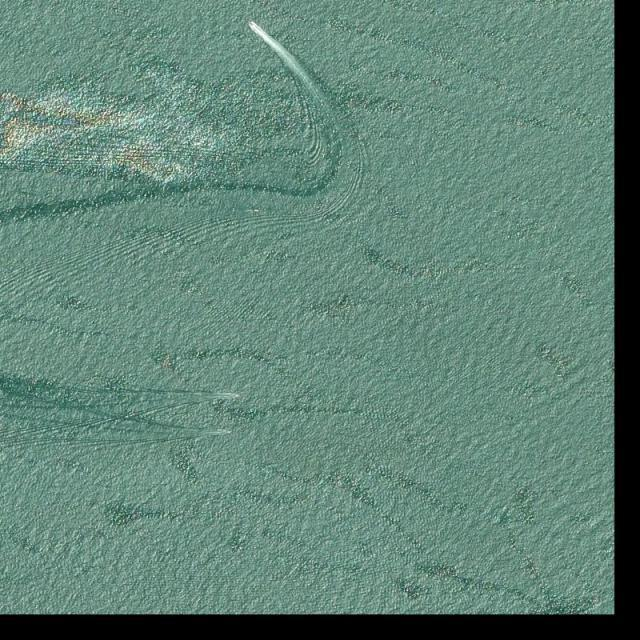ship: (247, 21, 255, 28), (226, 430, 233, 434), (234, 394, 241, 398), (254, 209, 260, 213)
